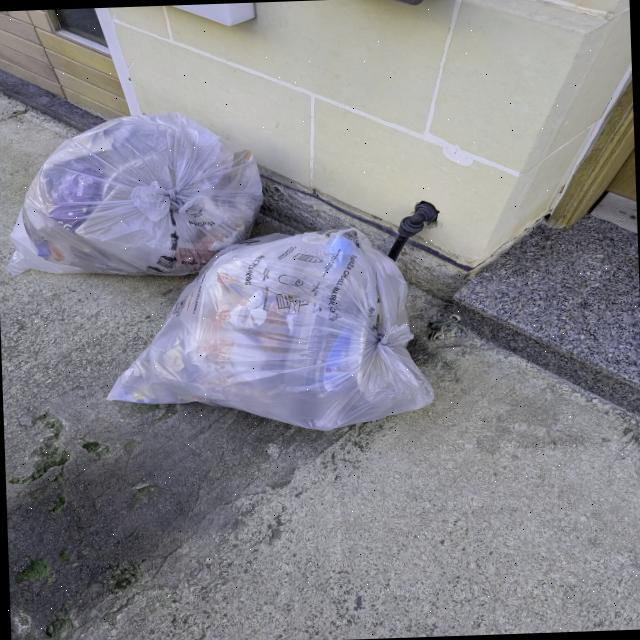Recyclable Material: (103, 225, 436, 439), (1, 110, 265, 282)
